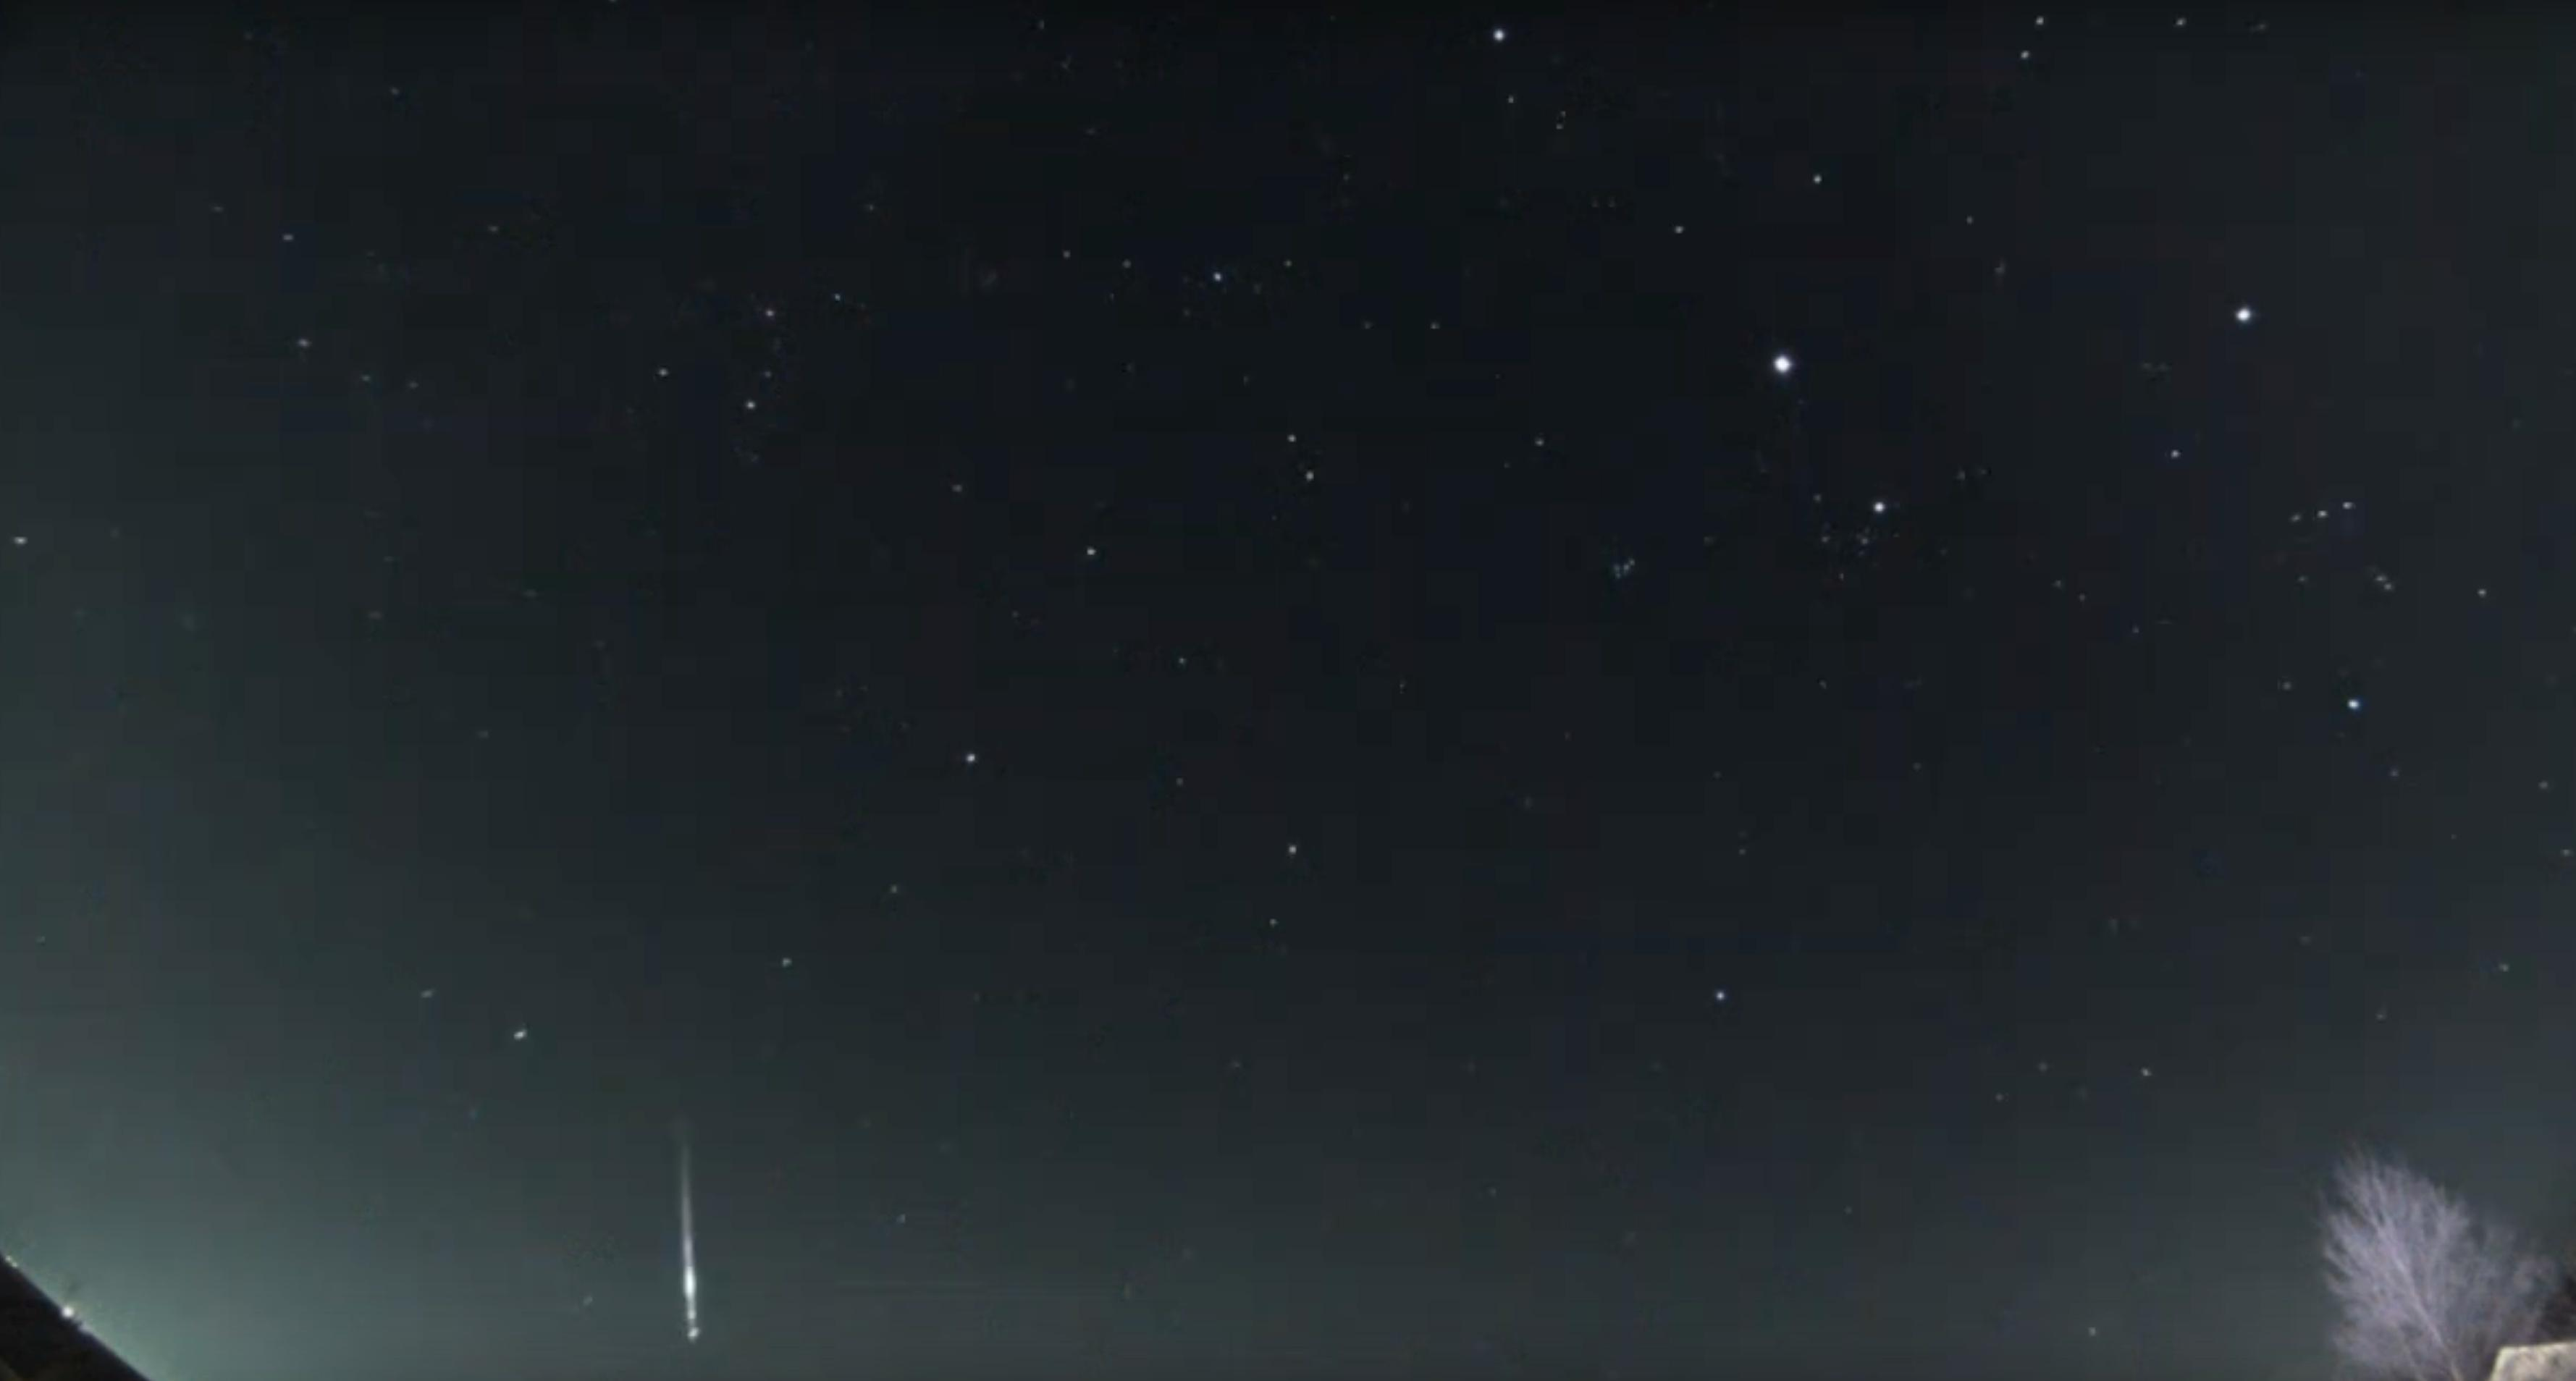meteorite: (635, 1114, 750, 1345)
